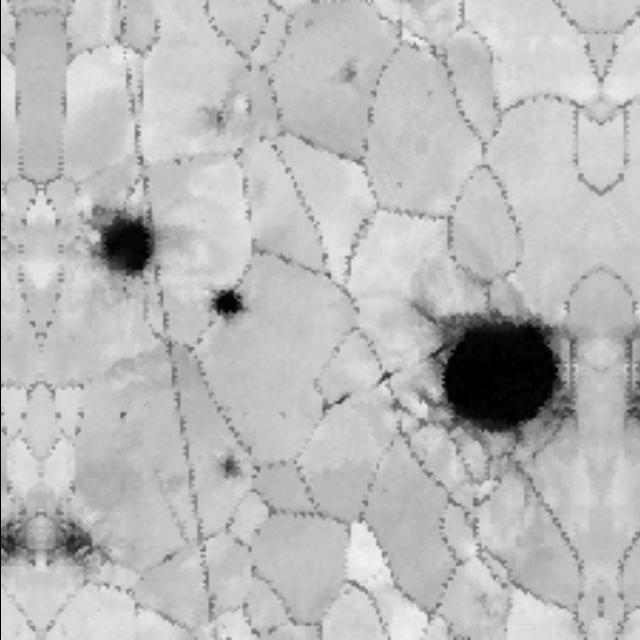good_void: (385, 295, 585, 482), (75, 193, 175, 296), (43, 500, 116, 576), (0, 500, 38, 575), (308, 375, 359, 424), (209, 276, 250, 331), (324, 50, 368, 94), (197, 94, 239, 135), (215, 451, 248, 491), (370, 356, 403, 393), (109, 401, 135, 426), (260, 619, 283, 640), (159, 547, 182, 565)
